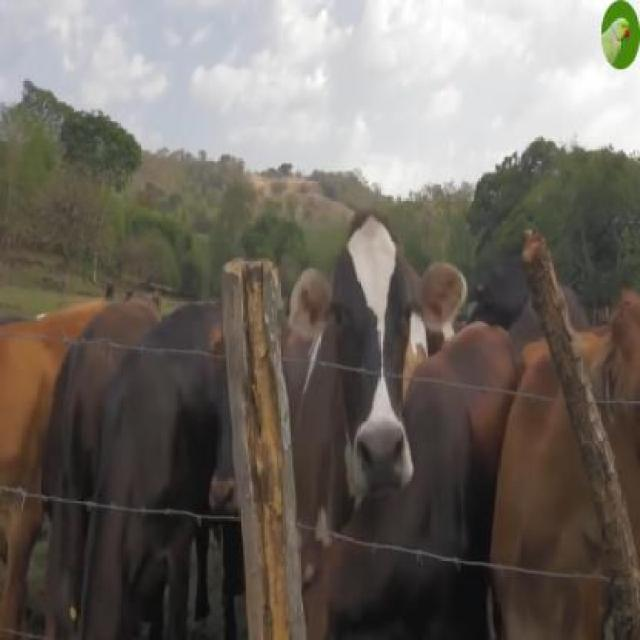Cow: (289, 212, 468, 500)
